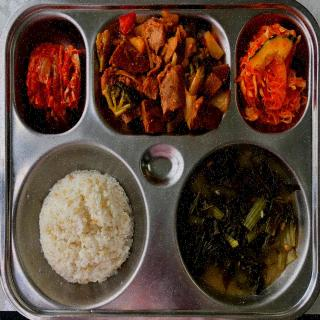Nasi: (40, 171, 133, 286)
